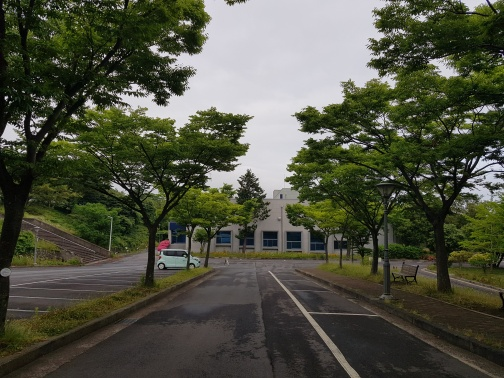College of Social Sciences: (160, 189, 373, 260)
